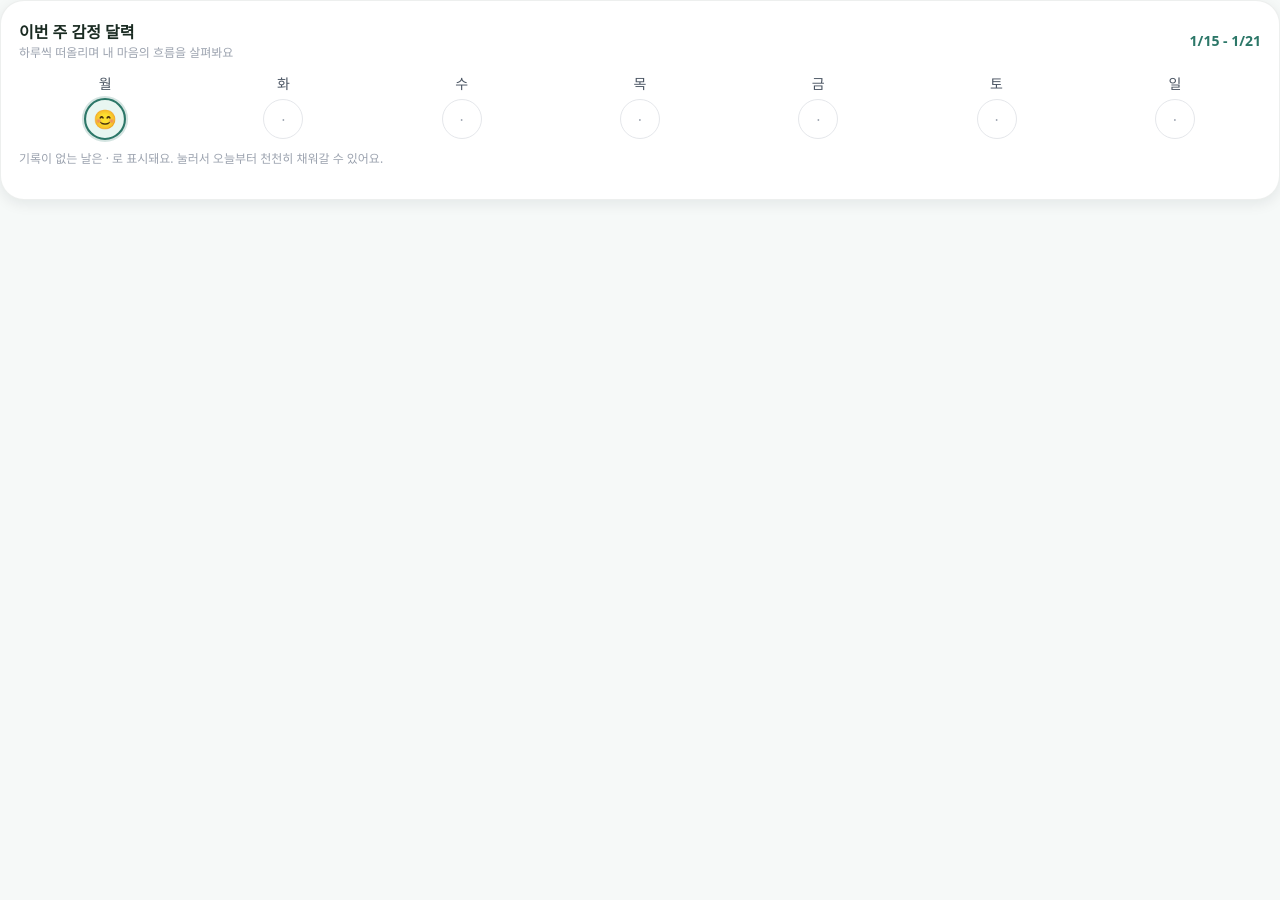
Test: WeeklyMoodWidget › 기록이 있는 날짜 › 기록이 있는 날짜 클릭 시 모달을 표시해야 함
This screenshot has width=1280, height=900.
What coordinates should you click on to do the following:
click the button "😊"
I would click on:
 (105, 119)
Its box is [84,98,126,140].
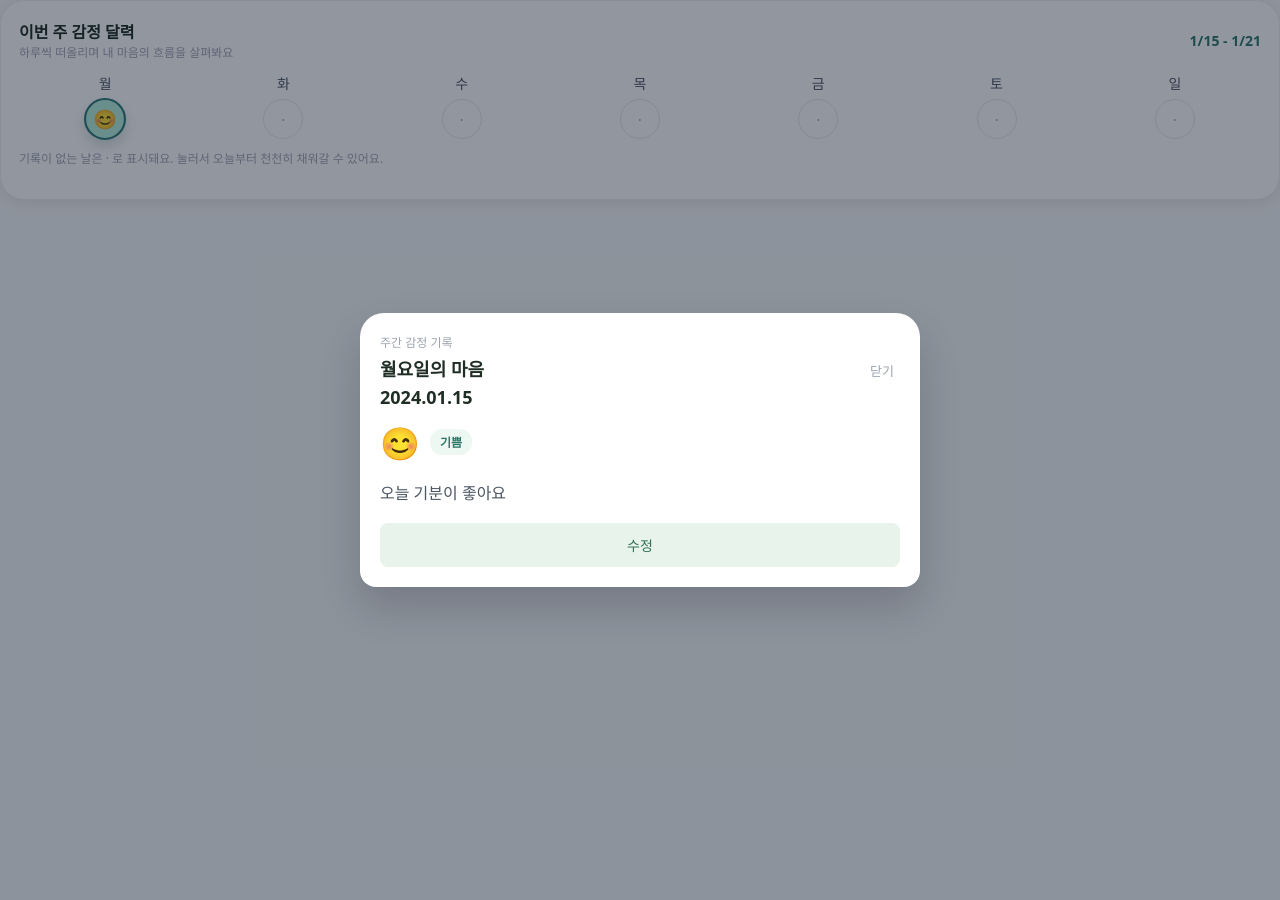
Expected: the text "기쁨" is shown, [430,429,472,455]
